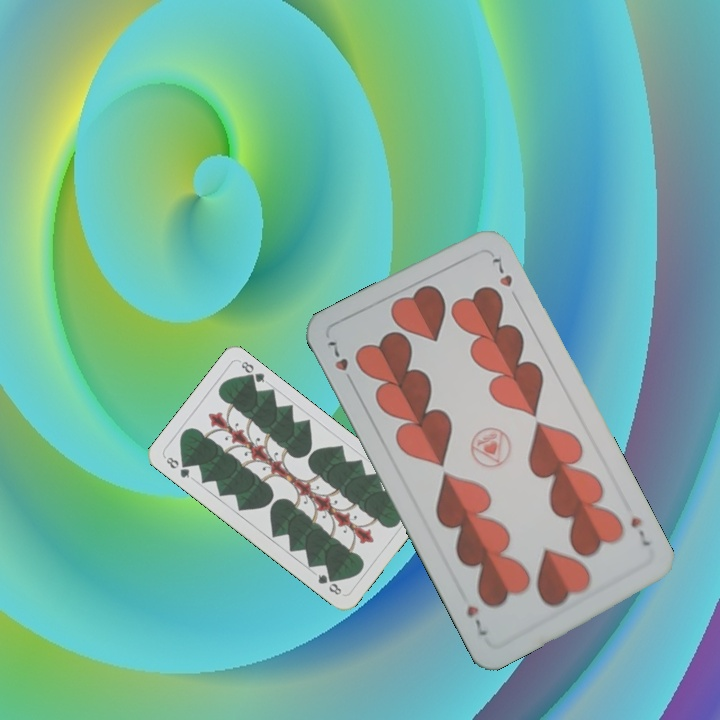G8: (162, 453, 192, 481)
H7: (323, 336, 357, 389), (626, 513, 653, 549)
